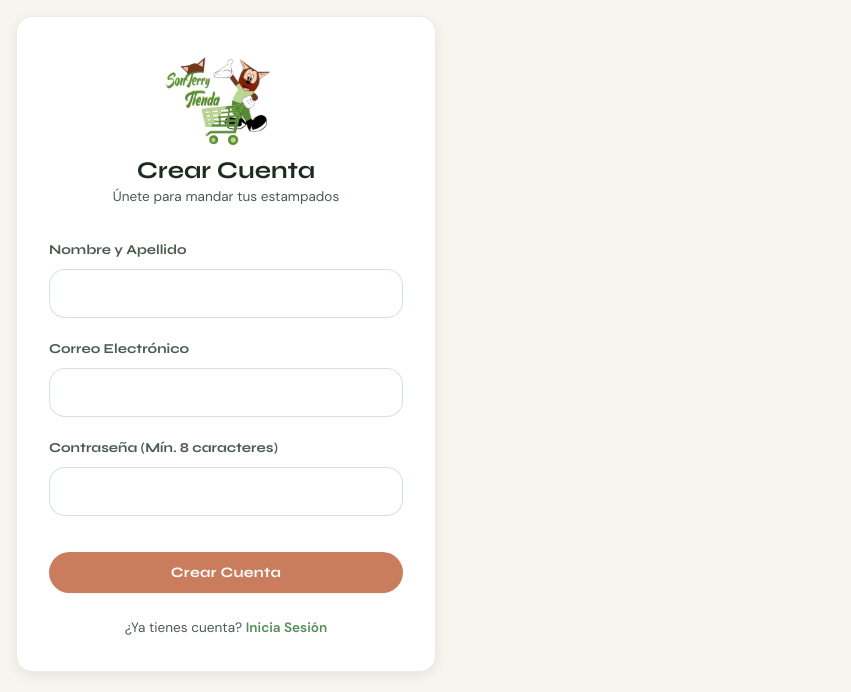
Test: Register › shows error for duplicate email
Step 1. Type "Duplicate User" into the field with test id "input-name" → (226, 294), box [49, 269, 403, 318]
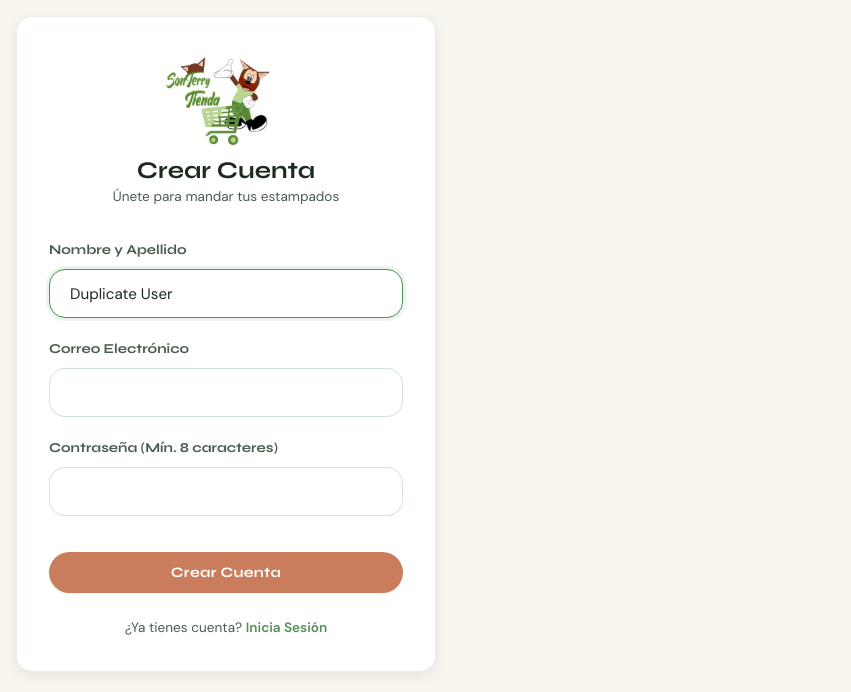
Step 2. Type "existing@example.com" into the field with test id "input-email" → (226, 393), box [49, 368, 403, 417]
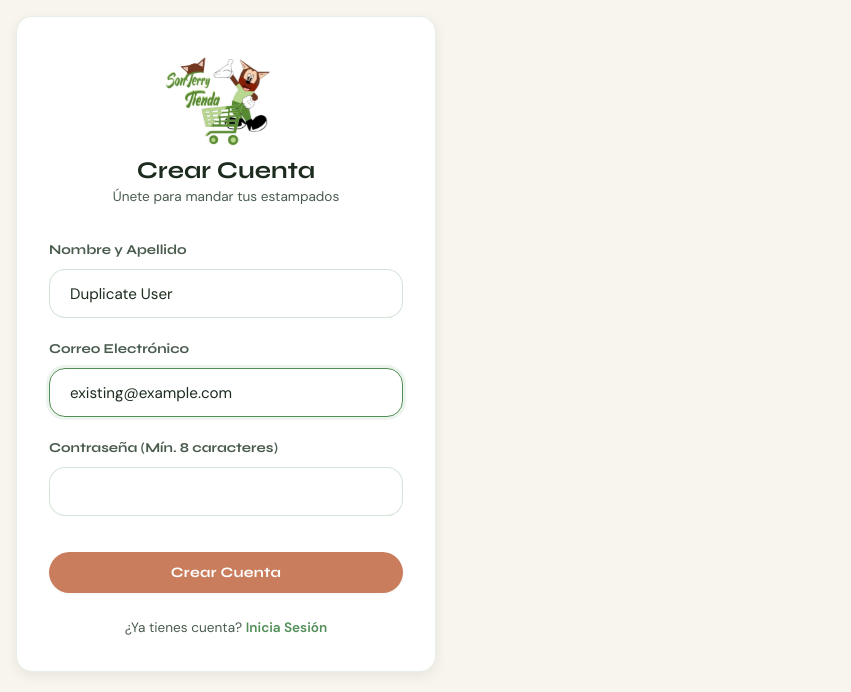
Step 3. Type "Password123!" into the password field with test id "input-password" → (226, 492), box [49, 467, 403, 516]
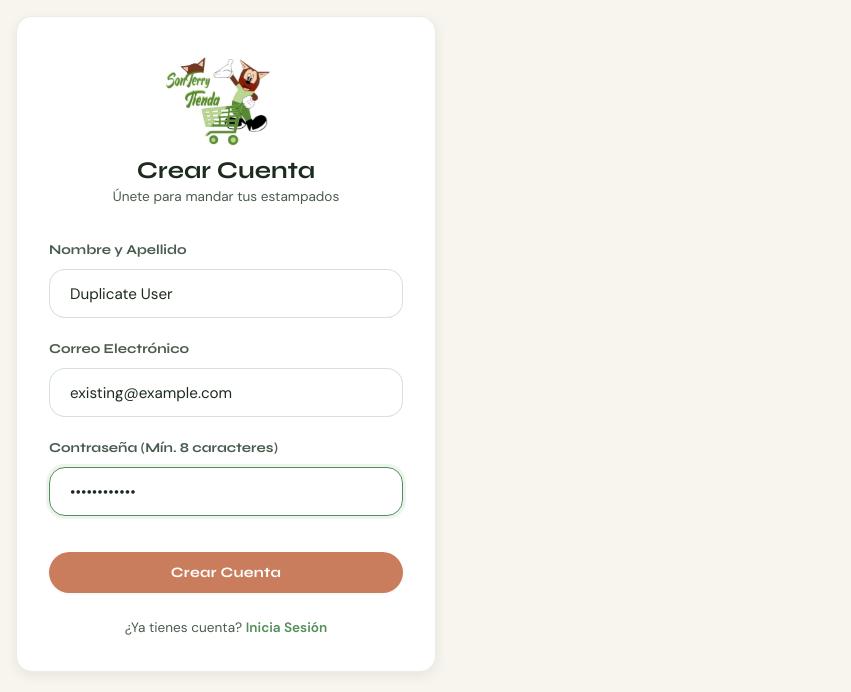
Step 4. Click the button with test id "submit-register" → (226, 573), box [49, 552, 403, 593]
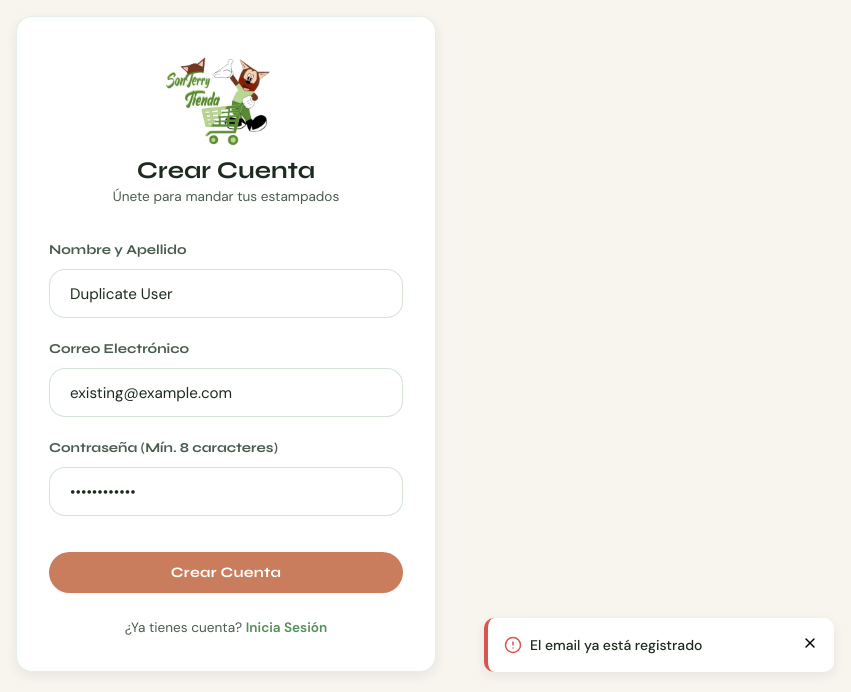
Result: the element with test id "auth-toast" is shown at [484, 618, 834, 672]
